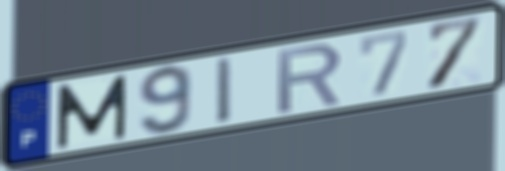7: (424, 14, 485, 92), (355, 27, 411, 99)
9: (135, 62, 195, 137)
I: (214, 54, 235, 127)
M: (54, 72, 130, 152)
R: (274, 40, 346, 117)
